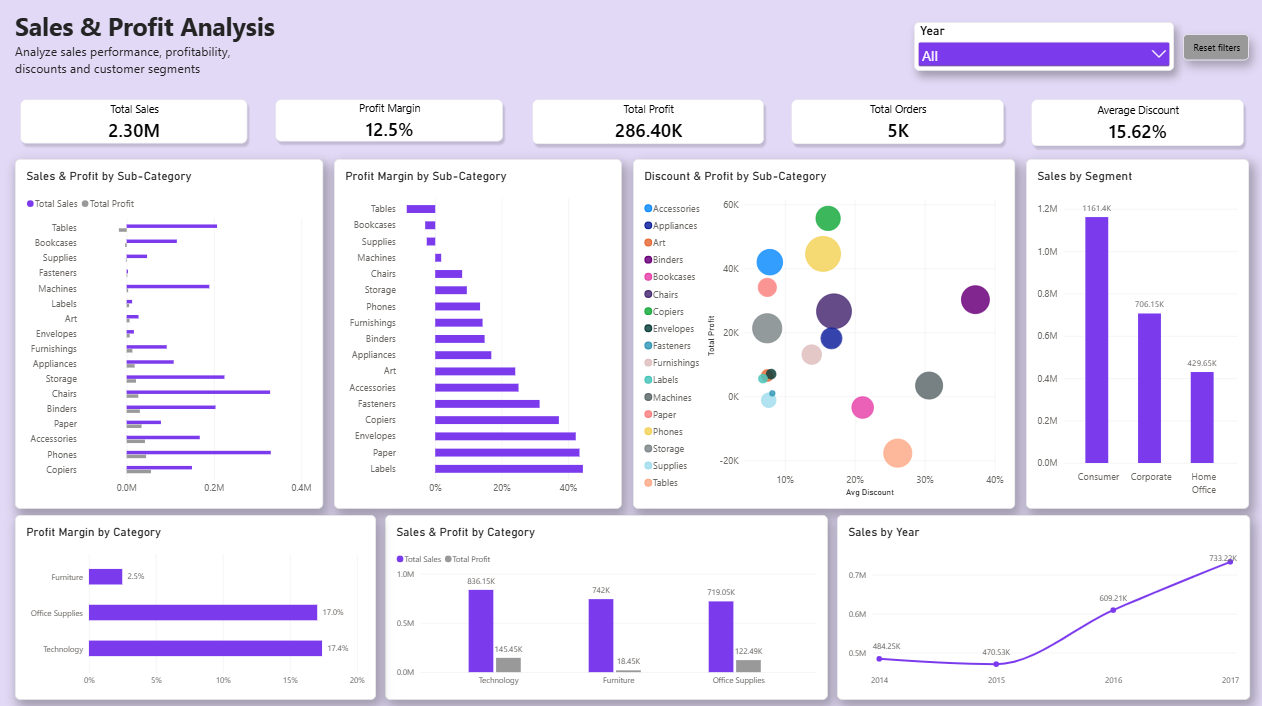

The page's visual inventory and layout, read from the dashboard file:
{"tool":"powerbi","page":{"name":"Sales & Profit Analysis","canvas":[1920,1080],"ordinal":1},"visuals":[{"type":"textbox","box":[29.2,23.3,399.8,97.8],"z":0},{"type":"slicer","fields":{"Values":["Calendar.Year"]},"box":[1390.4,40.9,393.9,74.4],"z":1000},{"type":"cardVisual","fields":{"Data":["FactSales.Total Sales"]},"box":[29.2,150.3,360.4,83.2],"z":2000},{"type":"cardVisual","fields":{"Data":["FactSales.Total Profit"]},"box":[803.9,150.3,367.7,84.6],"z":3000},{"type":"cardVisual","fields":{"Data":["FactSales.Profit Margin"]},"box":[415.8,150.3,361.8,80.2],"z":4000},{"type":"clusteredBarChart","title":"Sales & Profit by Sub-Category","fields":{"Category":["DimProduct.Sub-Category"],"Y":["FactSales.Total Sales","FactSales.Total Profit"]},"box":[29.2,248,466.9,529.6],"z":5000},{"type":"clusteredBarChart","title":"Profit Margin by Sub-Category","fields":{"Category":["DimProduct.Sub-Category"],"Y":["FactSales.Profit Margin"]},"box":[512.6,248,436.2,529.6],"z":6000},{"type":"scatterChart","title":"Discount & Profit by Sub-Category","fields":{"Series":["DimProduct.Sub-Category"],"Size":["FactSales.Total Sales"],"X":["FactSales.Avg Discount"],"Y":["FactSales.Total Profit"]},"box":[965.3,248,579.2,529.6],"z":7000},{"type":"clusteredColumnChart","title":"Sales & Profit by Category","fields":{"Category":["DimProduct.Category"],"Y":["FactSales.Total Sales","FactSales.Total Profit"]},"box":[589.4,787.8,671.1,280.1],"z":8000},{"type":"clusteredBarChart","title":"Profit Margin by Category","fields":{"Category":["DimProduct.Category"],"Y":["FactSales.Profit Margin"]},"box":[29.2,787.8,547.1,280.1],"z":9000},{"type":"clusteredColumnChart","title":"Sales by Segment","fields":{"Category":["DimCustomer.Segment"],"Y":["FactSales.Total Sales"]},"box":[1561.1,248,338.5,529.6],"z":10000},{"type":"lineChart","title":"Sales by Year","fields":{"Category":["Calendar.Year"],"Y":["FactSales.Total Sales"]},"box":[1273.7,787.8,625.9,280.1],"z":11000},{"type":"cardVisual","fields":{"Data":["FactSales.Total Orders"]},"box":[1196.4,150.3,338.5,84.6],"z":12000},{"type":"cardVisual","fields":{"Data":["FactSales.Avg Discount"]},"box":[1561.1,150.3,338.5,87.5],"z":13000},{"type":"actionButton","title":"Reset filters","box":[1798.9,58.4,100,40],"z":14000},{"type":"textbox","box":[29.2,72.9,399.8,77.3],"z":15000}]}

Visuals, with their boxes in screenshot pixels (x1, y1, x2, y2), scaled from the page's 1920x1080 canvas onto the 1262x706 screenshot:
textbox: crop(19, 15, 282, 79)
slicer - Calendar.Year: crop(914, 27, 1173, 75)
cardVisual - FactSales.Total Sales: crop(19, 98, 256, 153)
cardVisual - FactSales.Total Profit: crop(528, 98, 770, 154)
cardVisual - FactSales.Profit Margin: crop(273, 98, 511, 151)
"Sales & Profit by Sub-Category" clusteredBarChart: crop(19, 162, 326, 508)
"Profit Margin by Sub-Category" clusteredBarChart: crop(337, 162, 624, 508)
"Discount & Profit by Sub-Category" scatterChart: crop(634, 162, 1015, 508)
"Sales & Profit by Category" clusteredColumnChart: crop(387, 515, 829, 698)
"Profit Margin by Category" clusteredBarChart: crop(19, 515, 379, 698)
"Sales by Segment" clusteredColumnChart: crop(1026, 162, 1249, 508)
"Sales by Year" lineChart: crop(837, 515, 1249, 698)
cardVisual - FactSales.Total Orders: crop(786, 98, 1009, 154)
cardVisual - FactSales.Avg Discount: crop(1026, 98, 1249, 155)
"Reset filters" actionButton: crop(1182, 38, 1248, 64)
textbox: crop(19, 48, 282, 98)
